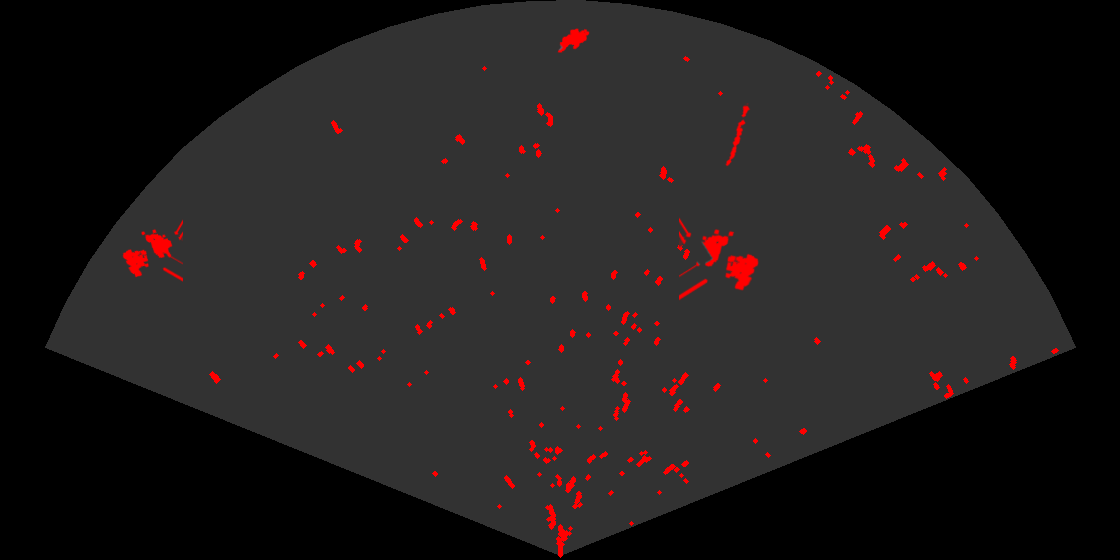AUV: (556, 27, 591, 55)
cage: (679, 216, 760, 302), (121, 218, 183, 283)
chain: (724, 103, 752, 169)
